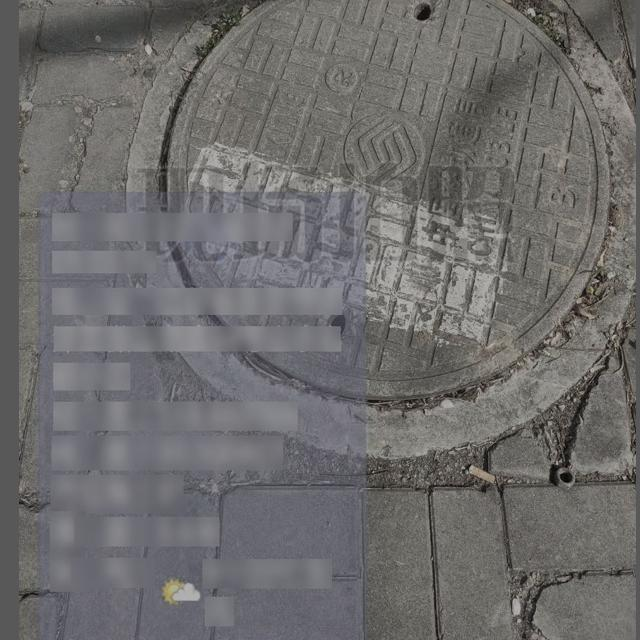circle: (151, 0, 625, 438)
